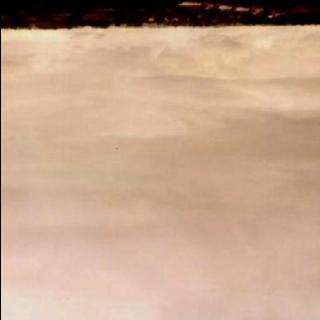Stratocumulus: (0, 33, 320, 320)
